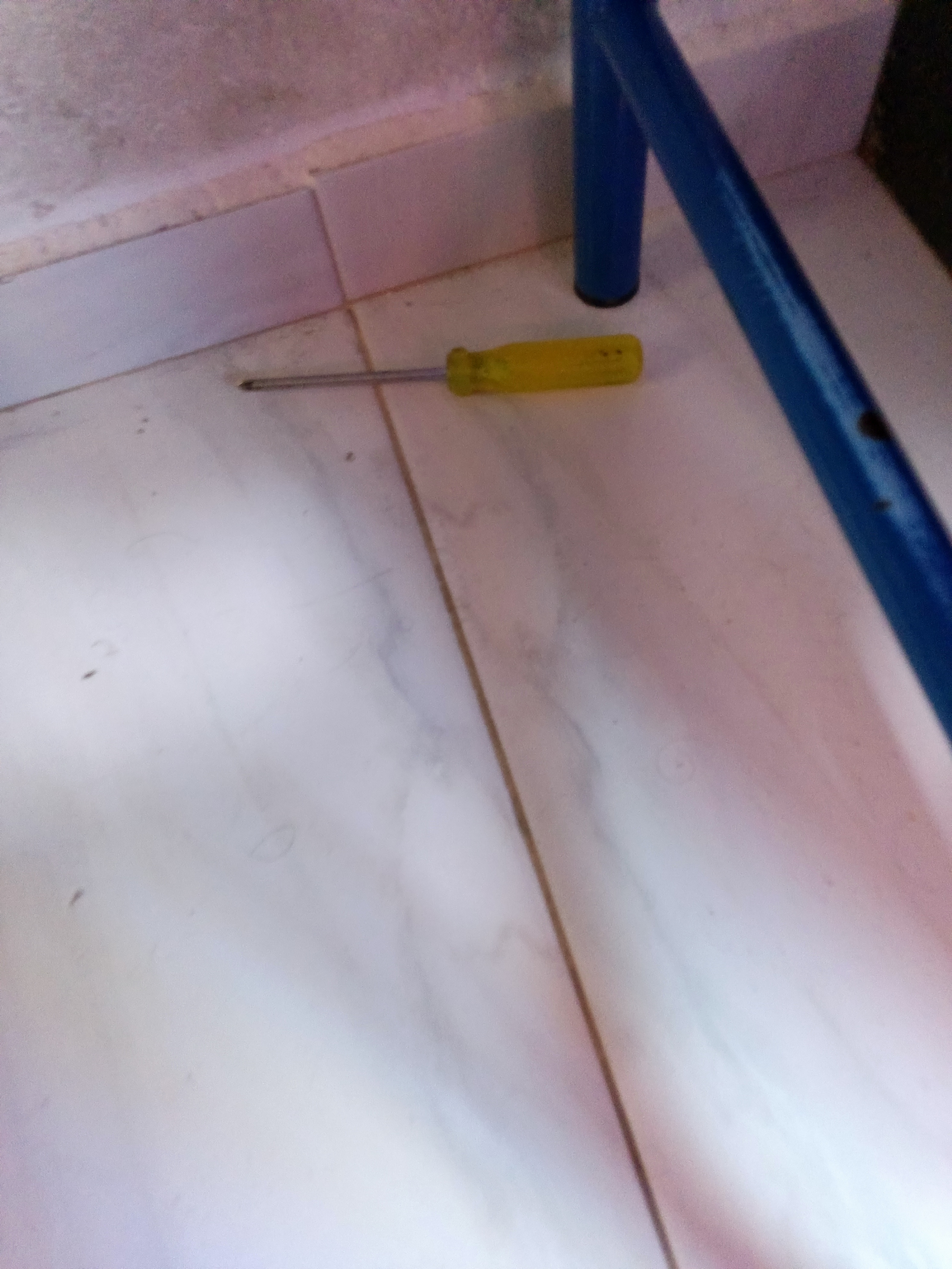Destornillador: (239, 334, 642, 396)
